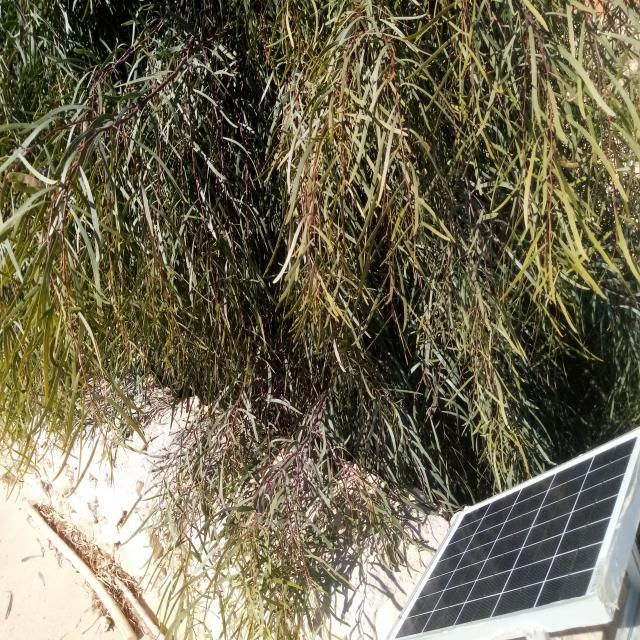no faulty: (385, 430, 639, 639)
